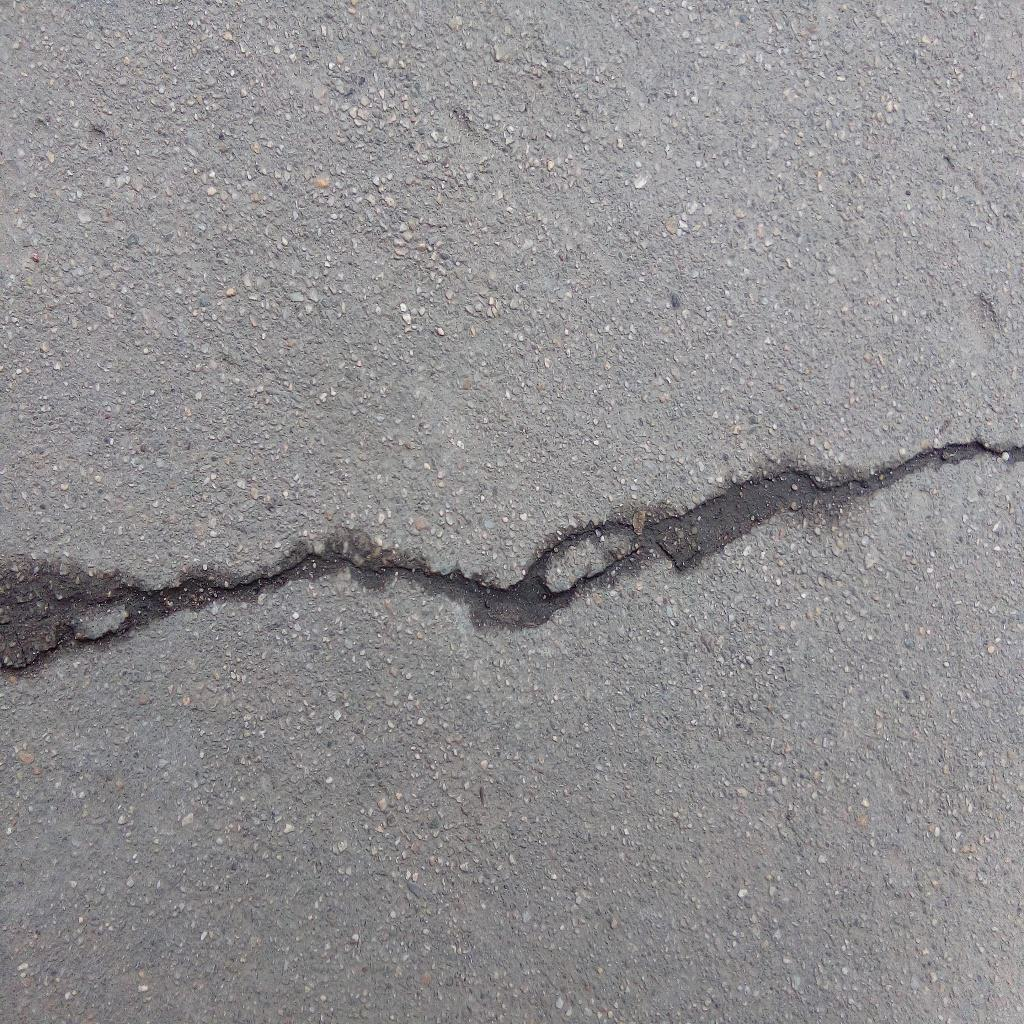Crack: (1, 436, 1024, 678)
